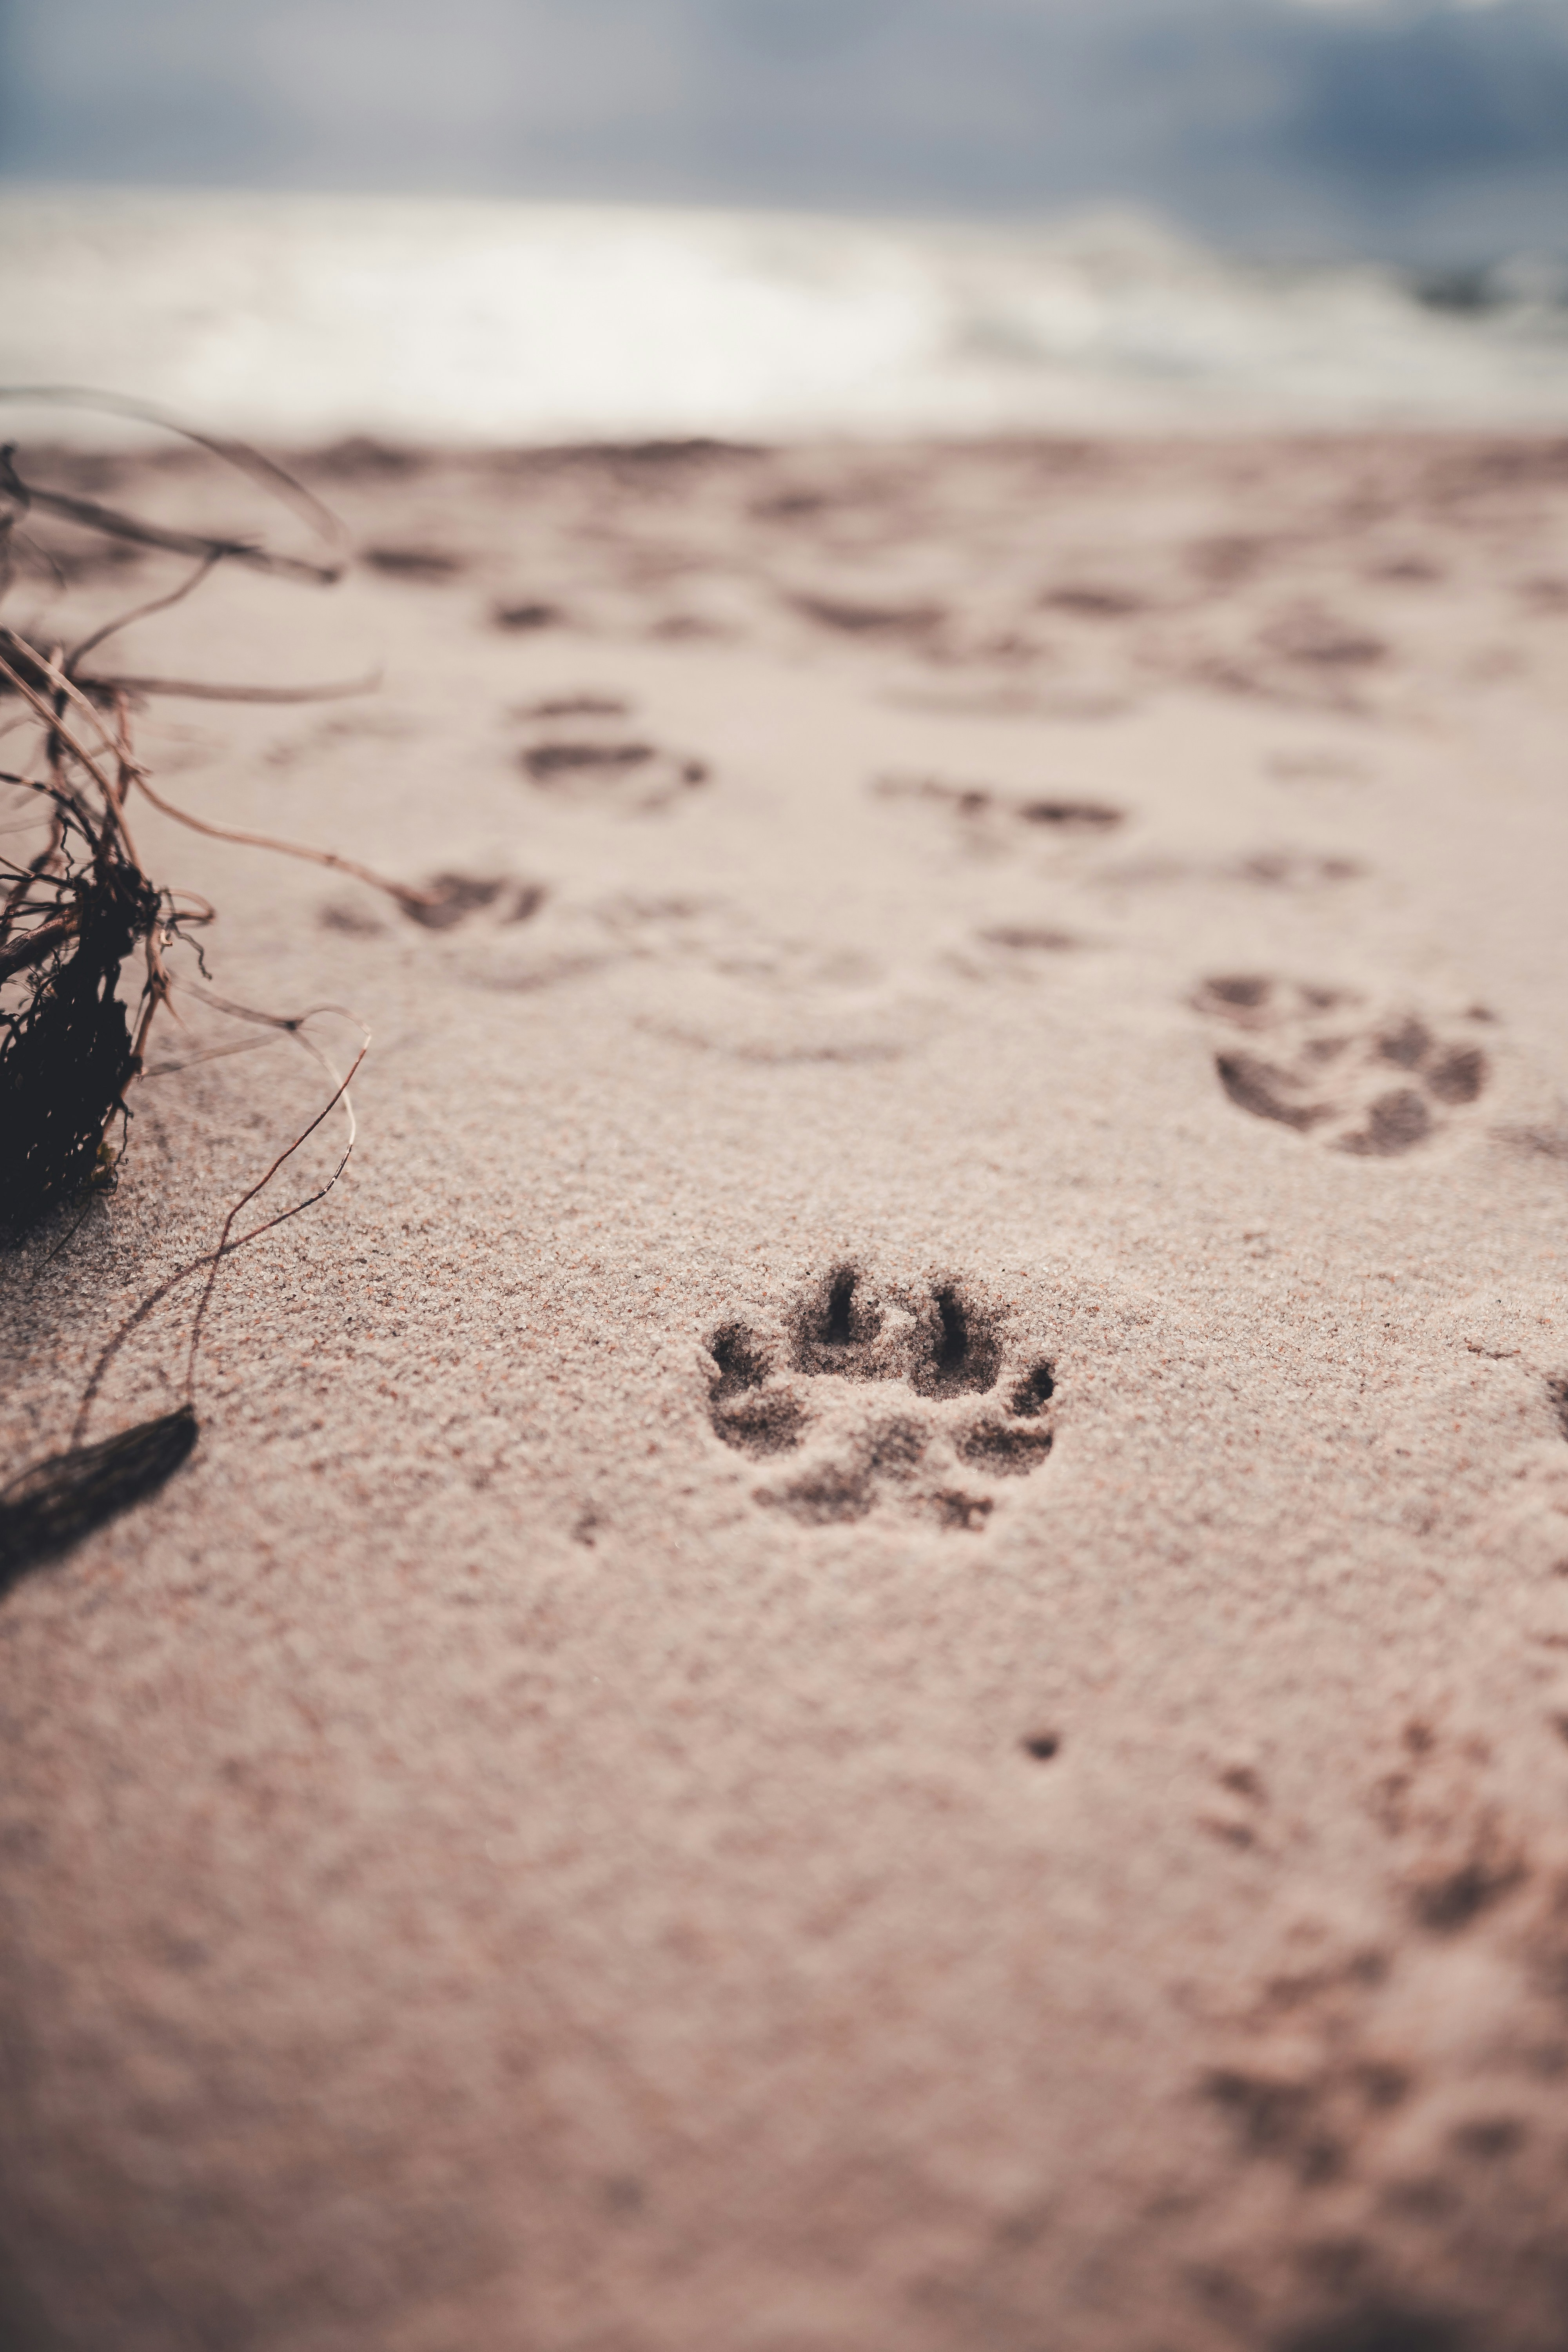chien: (681, 1263, 1073, 1563)
